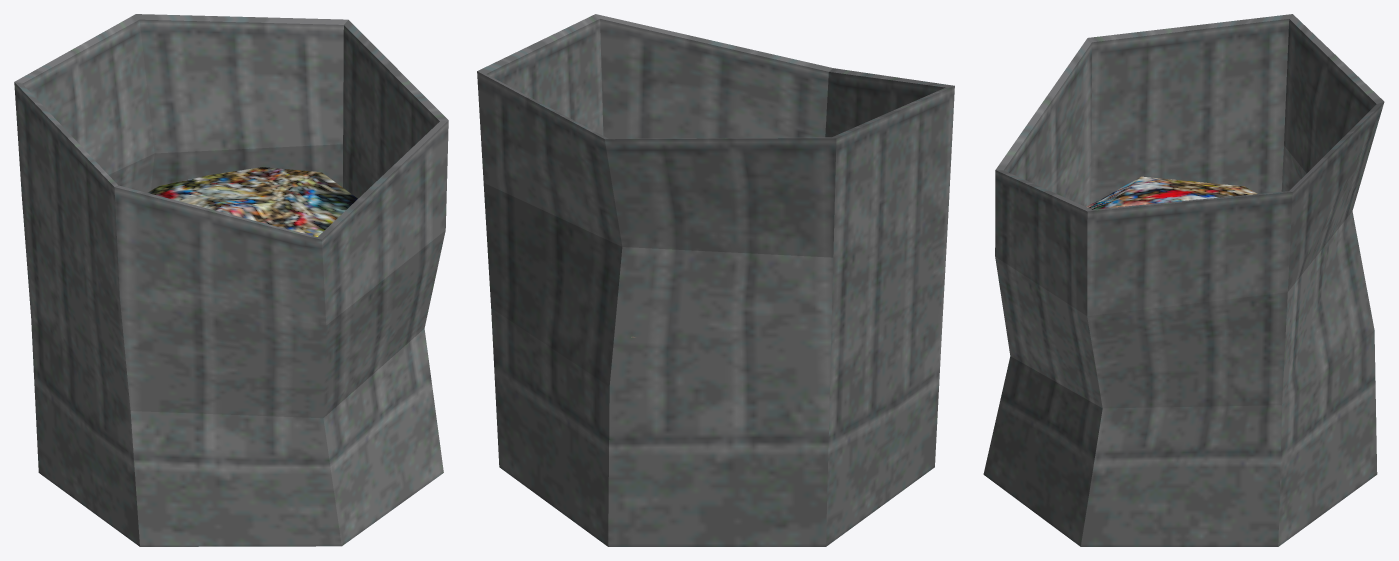
File: Urban_MetaltrashcanBeatenFilled_Model.fbx
The picture shows the model from 3 angles, left to right: view 1: azimuth 30°, elevation 25°; view 2: azimuth 150°, elevation 25°; view 3: azimuth 270°, elevation 25°; orthographic projection. The views are drawn at different scales.
Parts seen in each view (by area): view 1: Urban_MetaltrashcanBeatenFilled_Mesh; view 2: Urban_MetaltrashcanBeatenFilled_Mesh; view 3: Urban_MetaltrashcanBeatenFilled_Mesh.
Boxes of the visible parts, bbox=[...] form: Urban_MetaltrashcanBeatenFilled_Mesh: bbox=[14, 14, 448, 546]; Urban_MetaltrashcanBeatenFilled_Mesh: bbox=[477, 14, 954, 546]; Urban_MetaltrashcanBeatenFilled_Mesh: bbox=[983, 14, 1384, 546].
Bounding box in the file's own units: 0.7373 × 0.8092 × 0.7736.
